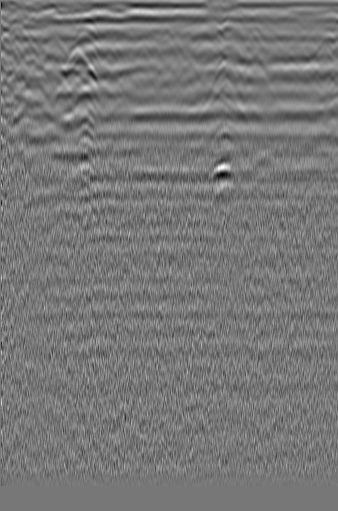가스: (202, 155, 235, 189)
상수: (32, 29, 71, 64)
오수: (307, 35, 336, 72)
우수: (146, 23, 183, 67)
